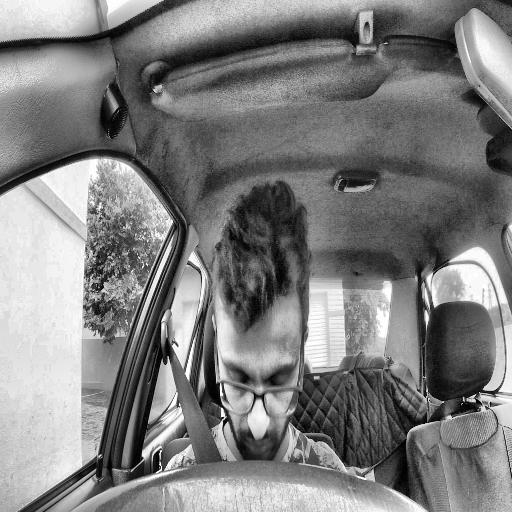drowsy: (211, 180, 312, 465)
